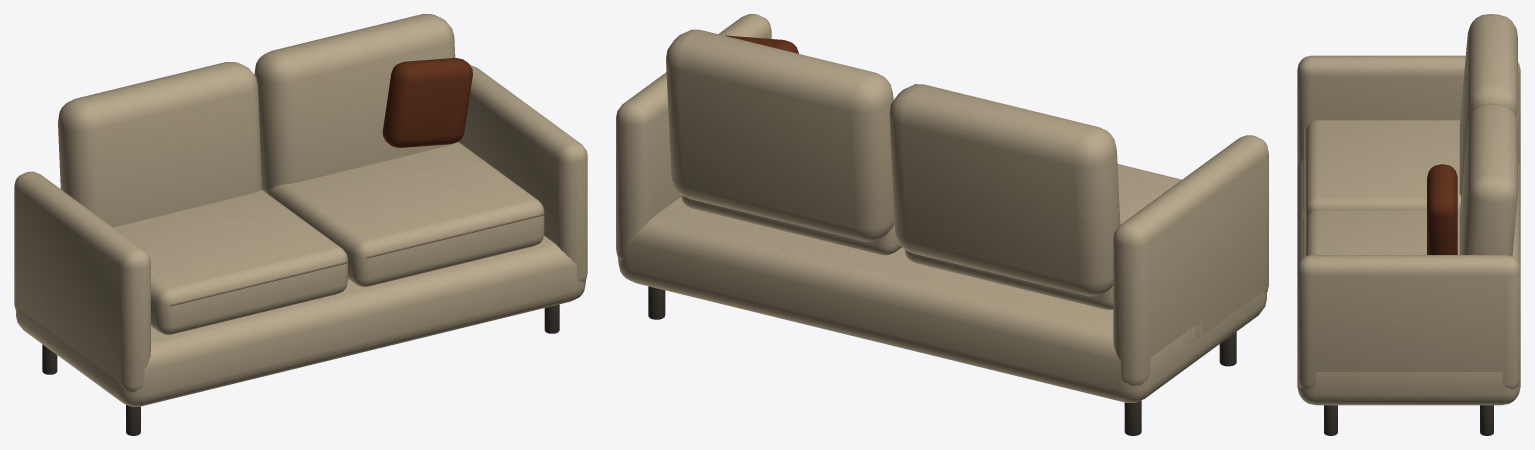
File: sofa-v1.glb
The picture shows the model from 3 angles, left to right: view 1: azimuth 30°, elevation 25°; view 2: azimuth 150°, elevation 25°; view 3: azimuth 270°, elevation 25°; orthographic projection. The views are drawn at different scales.
Visible parts, largest first — view 1: Bronze sofa foot; view 2: Bronze sofa foot; view 3: Bronze sofa foot.
Boxes of the visible parts, x1,y1,x2,y2 form: Bronze sofa foot: [14, 14, 587, 435]; Bronze sofa foot: [616, 14, 1268, 435]; Bronze sofa foot: [1297, 14, 1520, 435].
Bounding box in the file's own units: 1.8 × 0.9603 × 0.8.
Materials: 4 (2 with a texture image).
